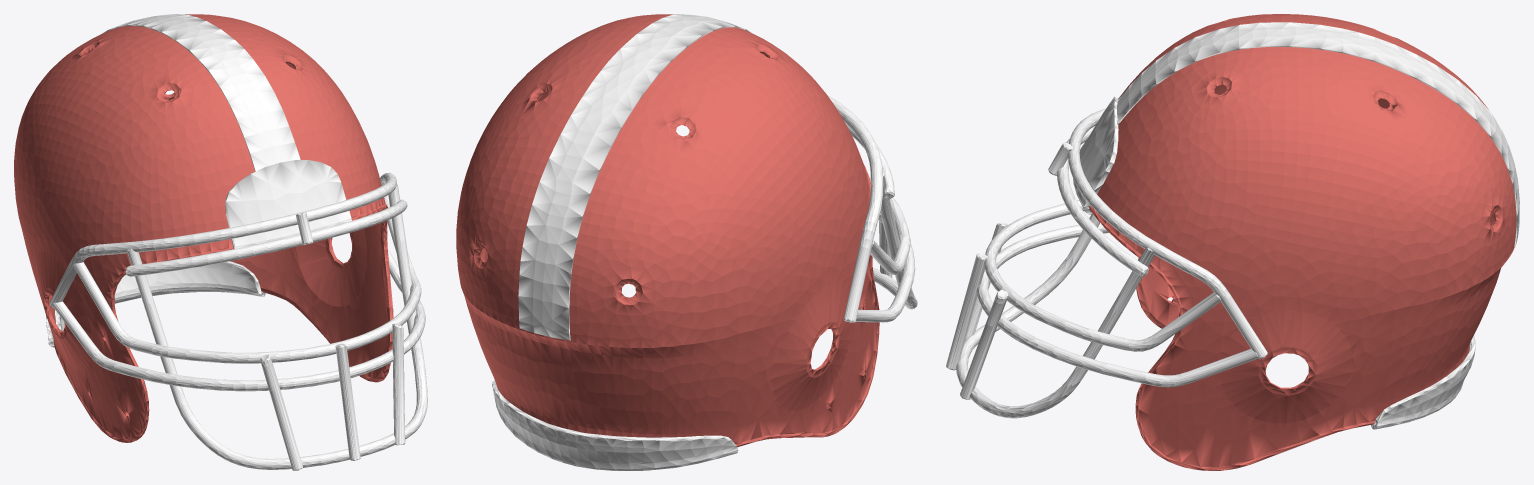
The model's file is RagbiKaciga.fbx.
The picture shows the model from 3 angles, left to right: view 1: azimuth 30°, elevation 25°; view 2: azimuth 150°, elevation 25°; view 3: azimuth 270°, elevation 25°; orthographic projection. The views are drawn at different scales.
Parts seen in each view (by area): view 1: node-0.001, node-0, node-0.035, node-0.033, node-0.030, node-0.025, node-0.023, node-0.004, node-0.034, node-0.038, node-0.037, node-0.039; view 2: node-0.001, node-0, node-0.004, node-0.023, node-0.033, node-0.025, node-0.030, node-0.034; view 3: node-0.001, node-0, node-0.025, node-0.033, node-0.030, node-0.023, node-0.004, node-0.035, node-0.034, node-0.039, node-0.038.
Boxes of the visible parts, x1,y1,x2,y2 form: node-0.001: (14, 14, 393, 442); node-0: (102, 14, 300, 171); node-0.035: (225, 160, 351, 248); node-0.033: (127, 184, 427, 469); node-0.030: (73, 195, 421, 363); node-0.025: (52, 248, 425, 391); node-0.023: (49, 172, 396, 308); node-0.004: (46, 261, 266, 347); node-0.034: (125, 199, 407, 276); node-0.038: (392, 323, 405, 445); node-0.037: (260, 354, 302, 470); node-0.039: (335, 343, 360, 460); node-0.001: (456, 14, 879, 447); node-0: (518, 14, 752, 340); node-0.004: (491, 381, 738, 470); node-0.023: (827, 95, 883, 322); node-0.033: (873, 172, 917, 309); node-0.025: (855, 213, 915, 322); node-0.030: (869, 177, 910, 274); node-0.034: (845, 123, 894, 199); node-0.001: (1089, 14, 1516, 470); node-0: (1117, 22, 1519, 247); node-0.025: (976, 223, 1258, 387); node-0.033: (956, 214, 1154, 418); node-0.030: (984, 200, 1220, 351); node-0.023: (1068, 109, 1267, 359); node-0.004: (1371, 335, 1475, 429); node-0.035: (1073, 96, 1118, 214); node-0.034: (1057, 126, 1148, 276); node-0.039: (946, 253, 987, 370); node-0.038: (960, 290, 1008, 399).
Size of the model in its own units: 45.5 by 46.86 by 65.32.
